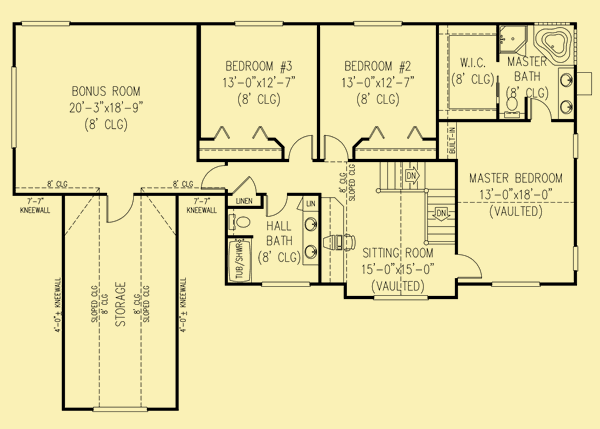door: (104, 192, 137, 223), (320, 134, 352, 164), (451, 252, 483, 281), (199, 165, 229, 194), (286, 134, 314, 164), (262, 190, 290, 219), (232, 175, 257, 198)
large sink: (227, 211, 254, 233), (502, 95, 522, 120)
small sink: (554, 66, 577, 119), (301, 212, 320, 268)
stairs: (376, 158, 456, 248)
tub: (228, 232, 254, 286)
windows: (8, 64, 20, 156), (369, 291, 431, 304), (485, 278, 545, 291), (256, 280, 313, 292), (347, 18, 406, 29), (231, 19, 285, 31), (17, 18, 74, 29), (86, 404, 149, 412), (570, 130, 583, 162), (570, 243, 580, 276)
